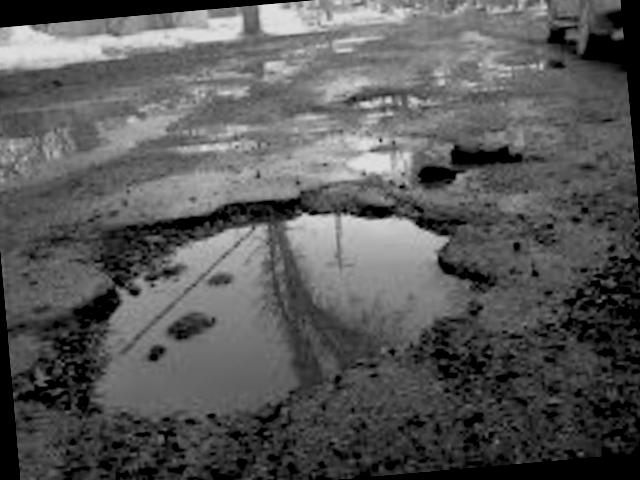Pothole: (0, 174, 543, 449), (0, 73, 259, 193), (406, 112, 573, 222), (328, 84, 469, 131)
